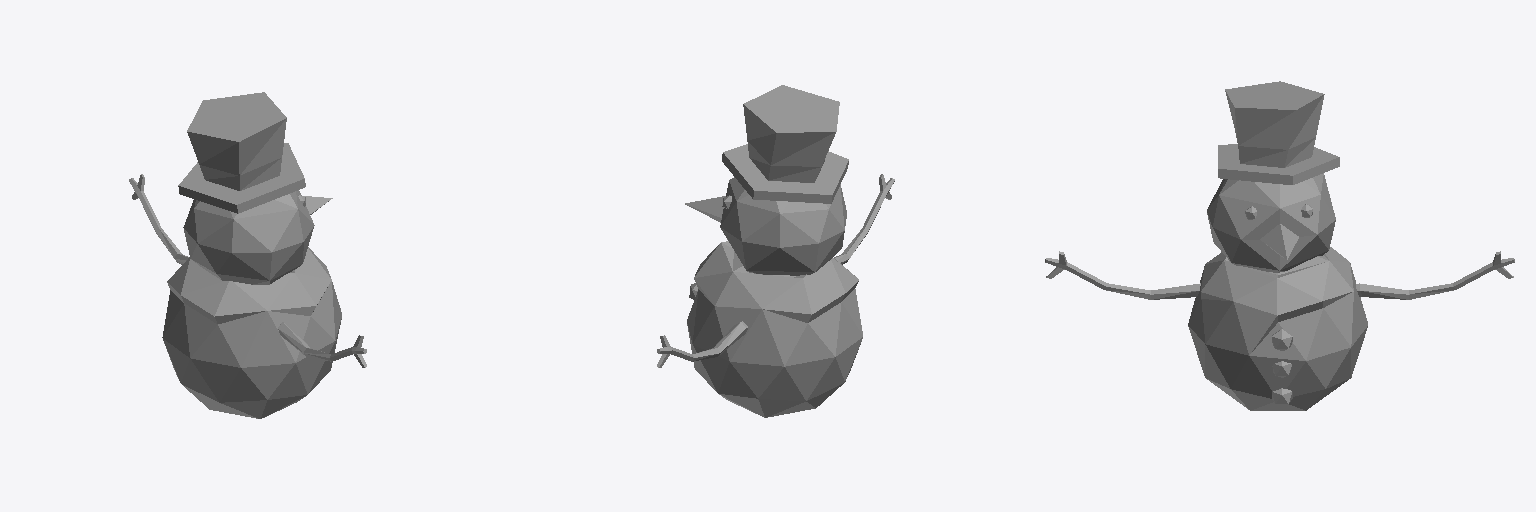
Rendered from Snowman.obj.
3 views of the same model, side by side, from view 1: azimuth 30°, elevation 25°; view 2: azimuth 150°, elevation 25°; view 3: azimuth 270°, elevation 25° (orthographic).
Parts seen in each view (by area): view 1: Icosphere; view 2: Icosphere; view 3: Icosphere.
Boxes of the visible parts, box(x1,y1,x2,y2) form: Icosphere: box(129, 92, 366, 418); Icosphere: box(657, 85, 894, 417); Icosphere: box(1045, 81, 1514, 410).
Size of the model in its own units: 1.48 by 2.71 by 3.75.